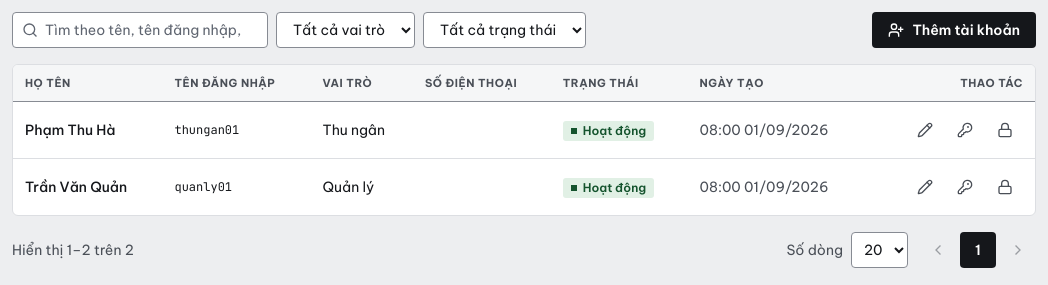
Test: UsersPanel › narrows the list with the role filter
Expected: the text "Phạm Thu Hà" is shown, [13,102,162,158]
Select "Quản lý" in the dropdown named "Vai trò" at (346, 30), box [276,12,415,48]
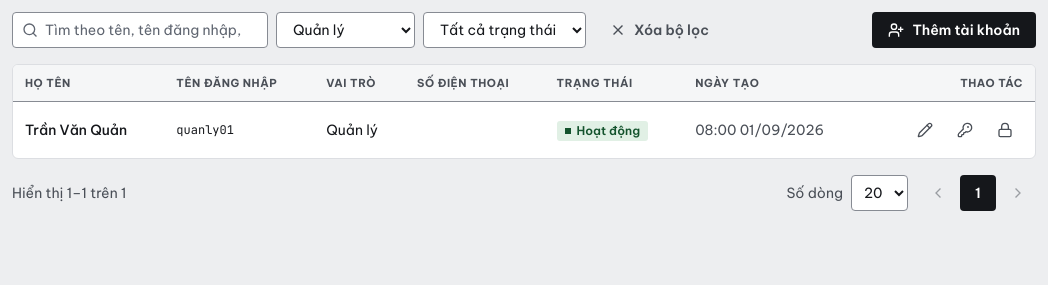
Expected: the text "Trần Văn Quản" is shown, [13,102,164,158]
Now the text "Phạm Thu Hà" is gone
